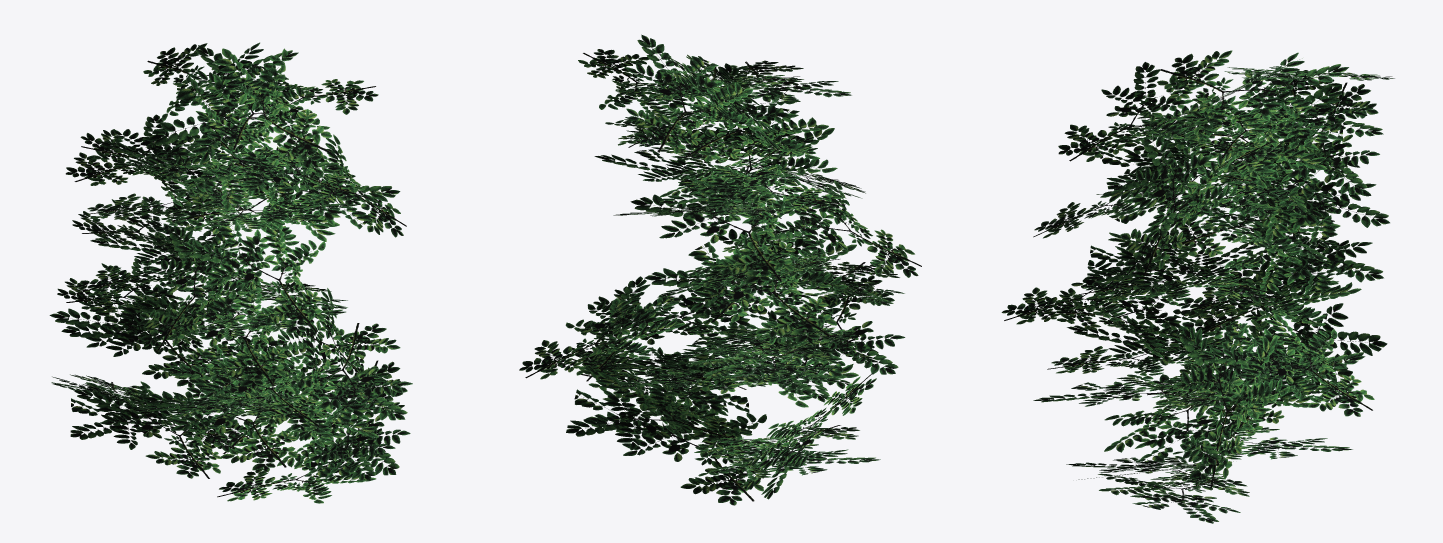
The model's file is birch leaves.fbx.
3 views of the same model, side by side, from view 1: azimuth 30°, elevation 25°; view 2: azimuth 150°, elevation 25°; view 3: azimuth 270°, elevation 25° (orthographic). The views are drawn at different scales.
Visible parts, largest first — view 1: branch04_1; view 2: branch04_1; view 3: branch04_1.
Part boxes in pixels (<box>): branch04_1: <box>49,42,412,503</box>; branch04_1: <box>519,34,921,505</box>; branch04_1: <box>1001,50,1394,523</box>.
Size of the model in its own units: 475 by 530 by 465.
1 material, 1 textured.
